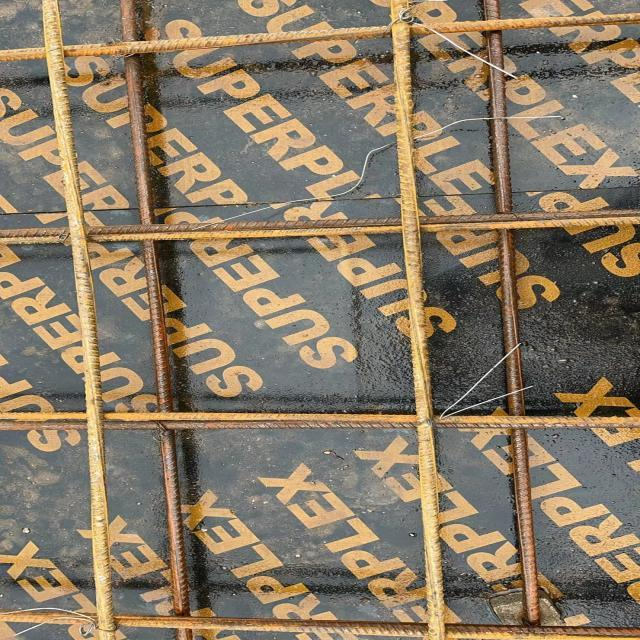ribbed bar: (38, 0, 120, 639), (118, 0, 190, 639), (481, 0, 543, 627), (391, 0, 445, 639), (0, 11, 639, 61), (0, 207, 639, 247), (0, 612, 639, 640), (0, 411, 639, 430)
